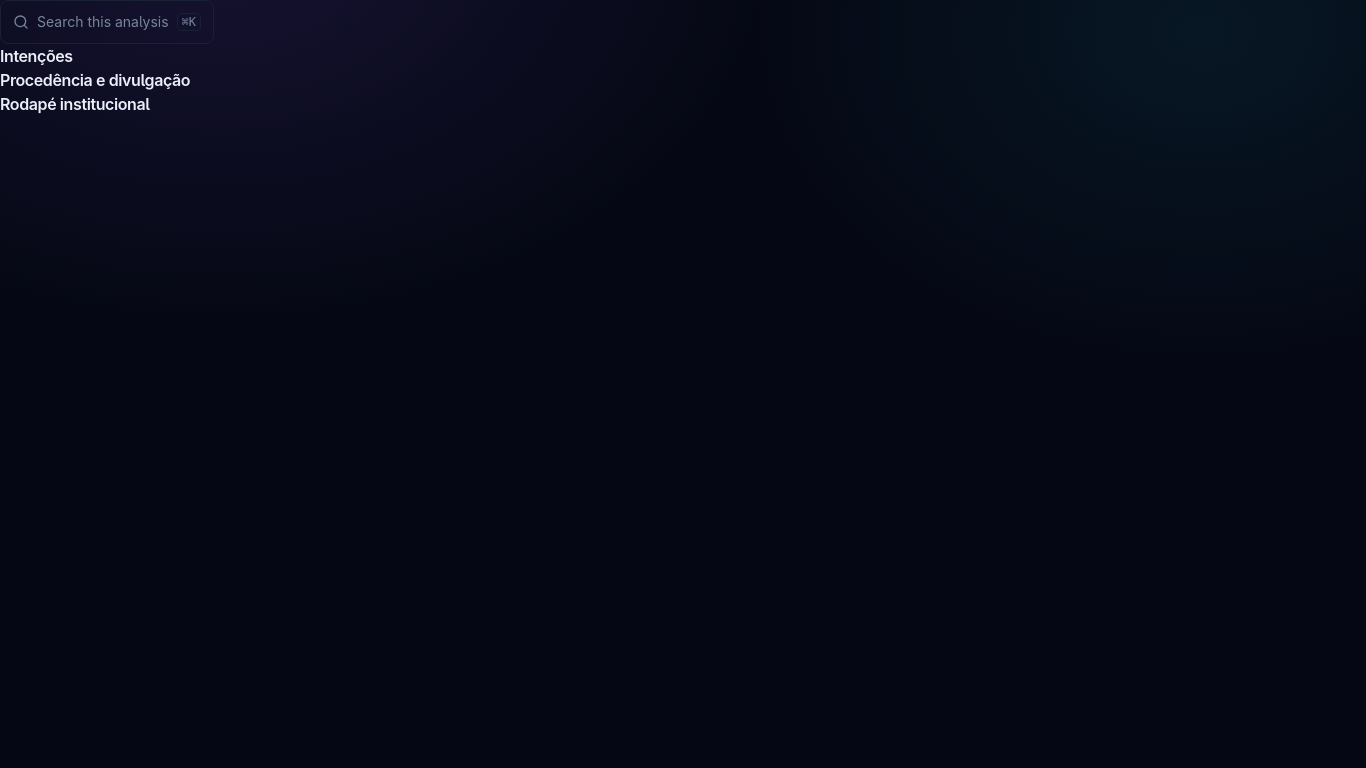
NAV-01 · paleta de comandos › Esc fecha e o foco VOLTA para o gatilho
The width and height of the screenshot is (1366, 768).
Click the button "Search this analysis ⌘K" at [107, 22], box x1=0 y1=0 x2=214 y2=44
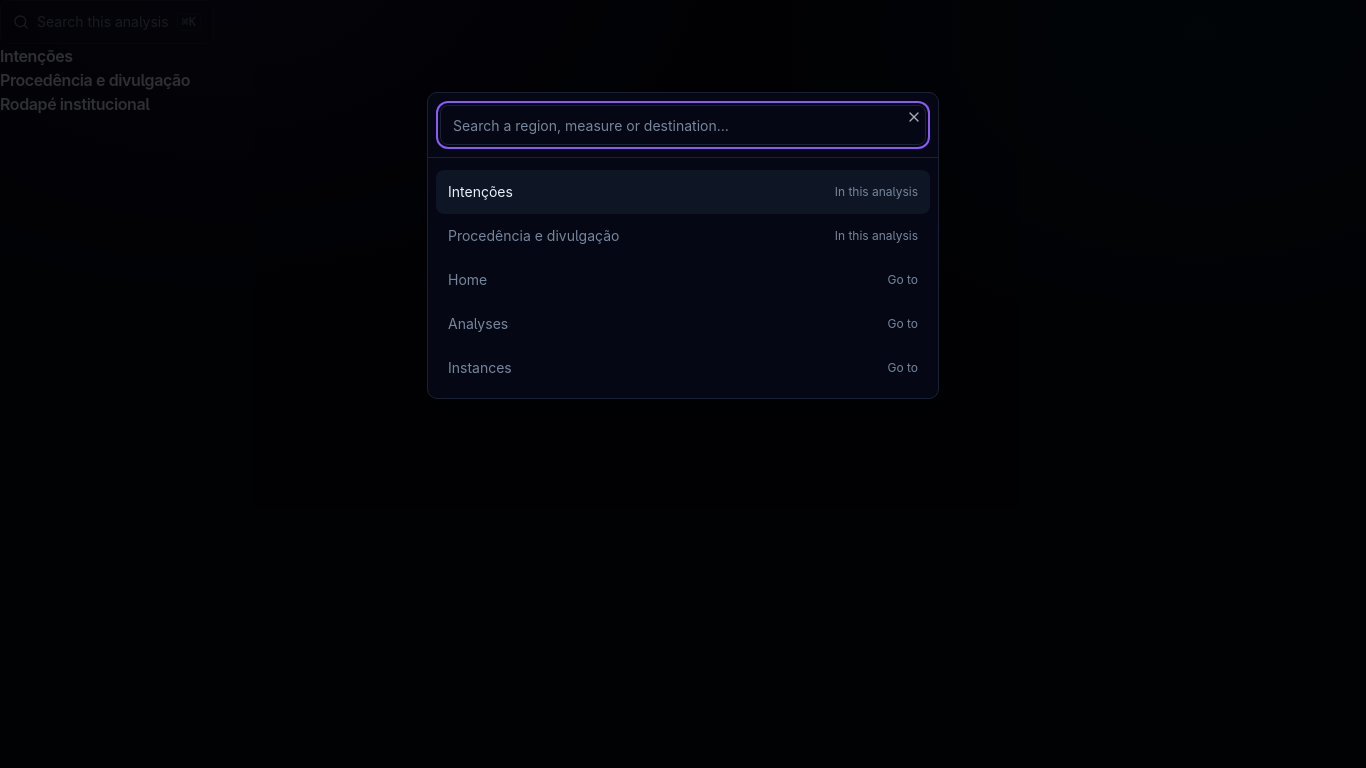
Now the list is shown, box x1=428 y1=170 x2=938 y2=398
Press Escape
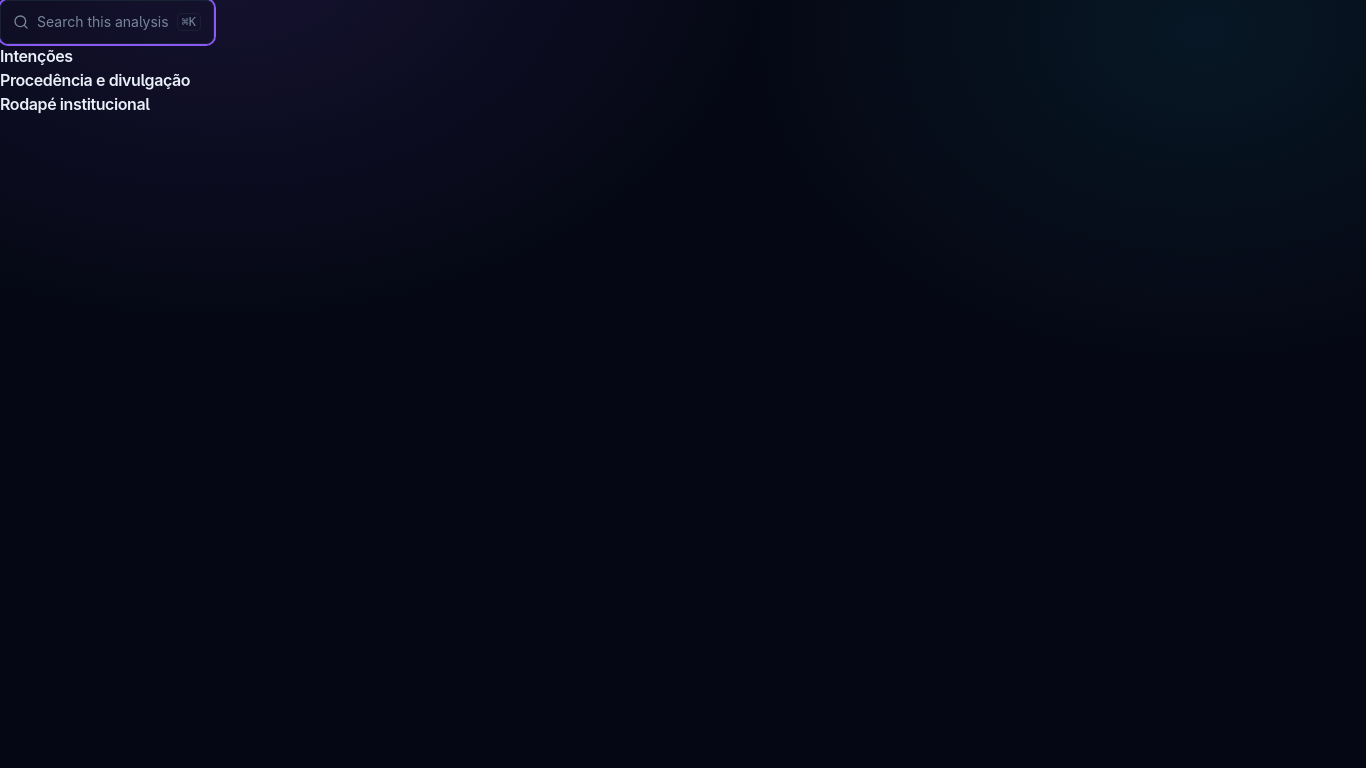
Now the list is gone
